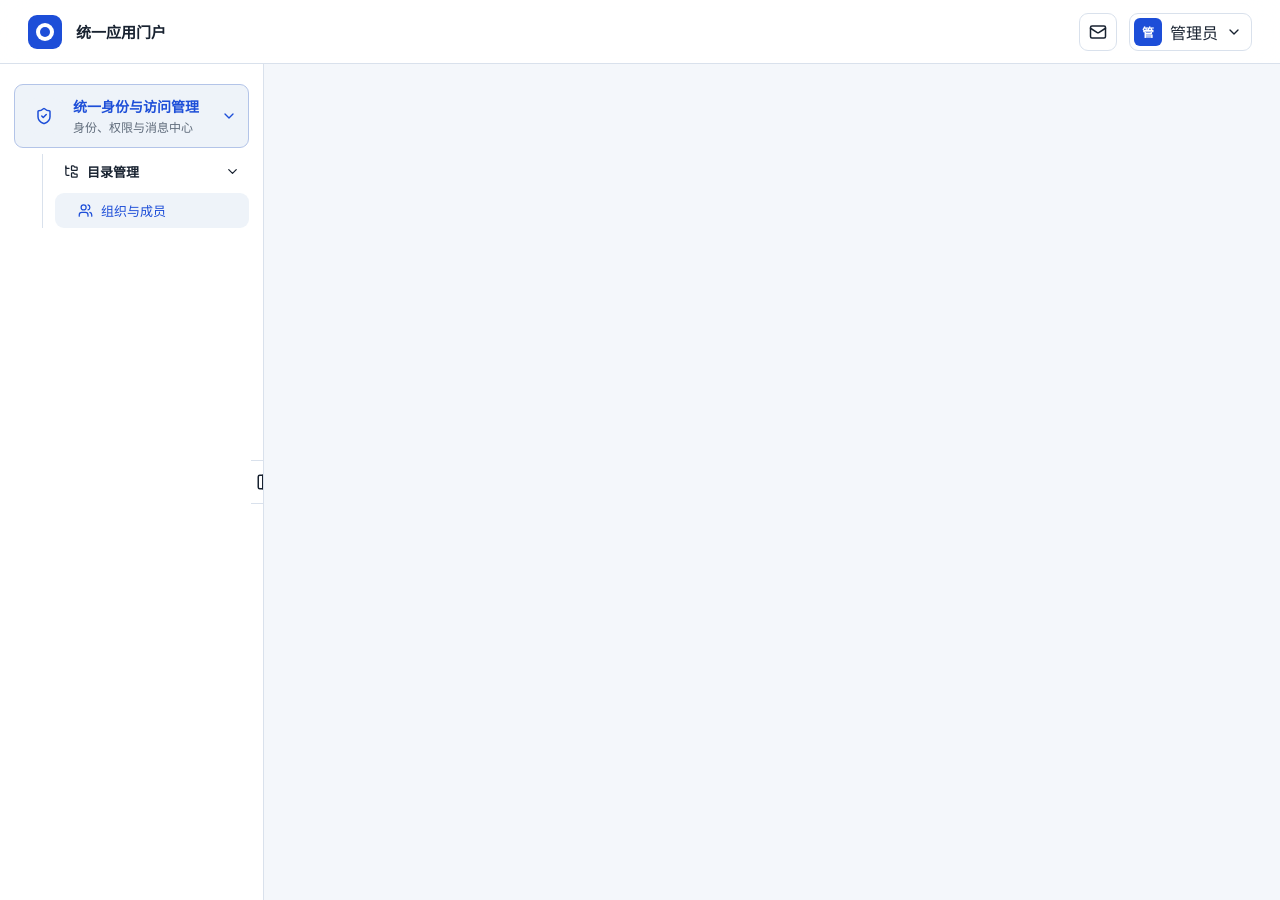
Test case: Portal App › 应优先渲染递归 menuTree，并为深链接自动展开祖先分组
The image size is (1280, 900).
Expected: the button with class "app-subnav-item" reads "组织与成员", [55,193,249,228]
Expected: the icon with class "lucide-folder-tree" is shown, [64,164,79,179]
Click the button with class "app-subnav-group".
click(152, 172)  # box [55,154,249,189]
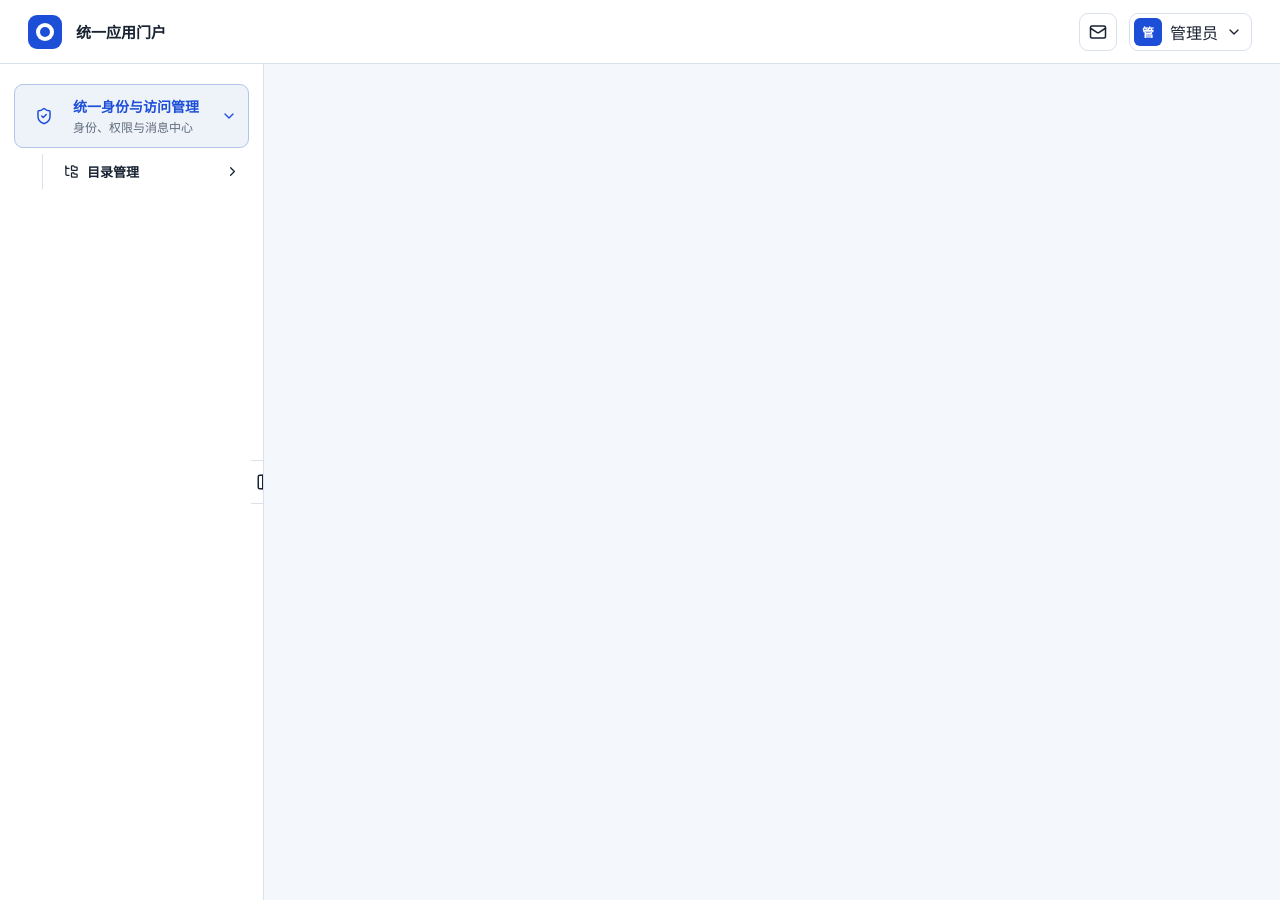
Expected: the button with class "app-subnav-group" is collapsed, [55,154,249,189]
